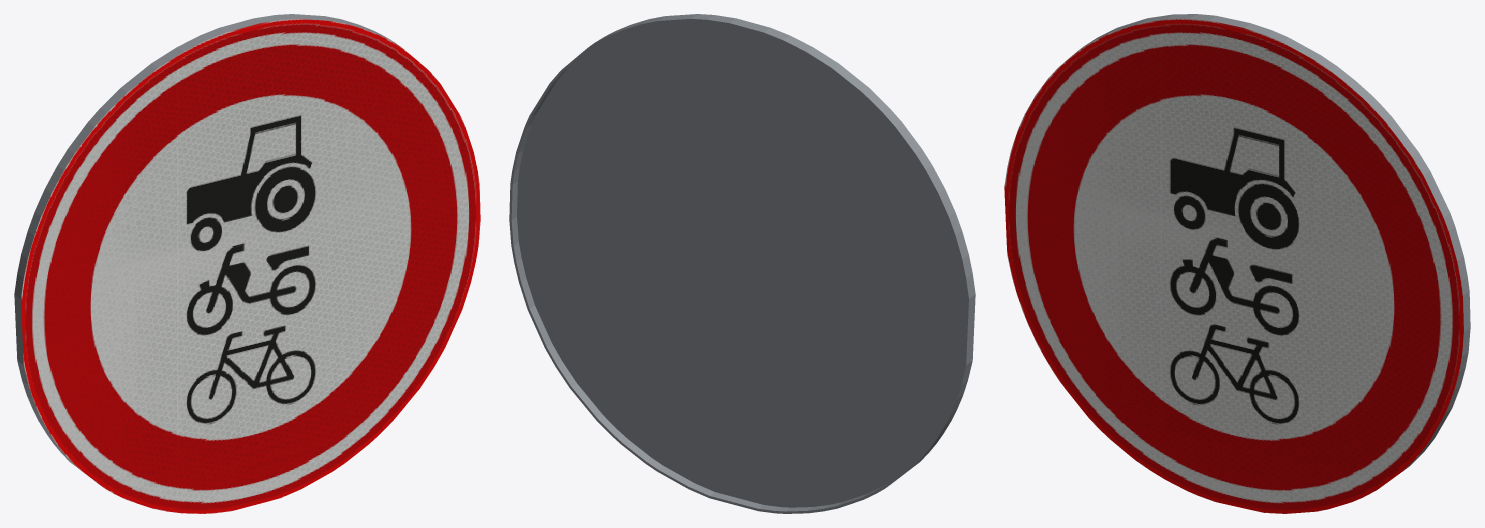
3 views of the same model, side by side, from view 1: azimuth 30°, elevation 25°; view 2: azimuth 150°, elevation 25°; view 3: azimuth 330°, elevation 25° (orthographic).
Parts seen in each view (by area): view 1: cat_94241ae14f5f44d7; view 2: cat_94241ae14f5f44d7; view 3: cat_94241ae14f5f44d7.
Part boxes in pixels (x1,y1,x2,y2): cat_94241ae14f5f44d7: [14, 14, 480, 513]; cat_94241ae14f5f44d7: [509, 14, 975, 513]; cat_94241ae14f5f44d7: [1004, 14, 1470, 513].
Bounding box in the file's own units: 0.6 × 0.015 × 0.6.
2 materials, 1 textured.
